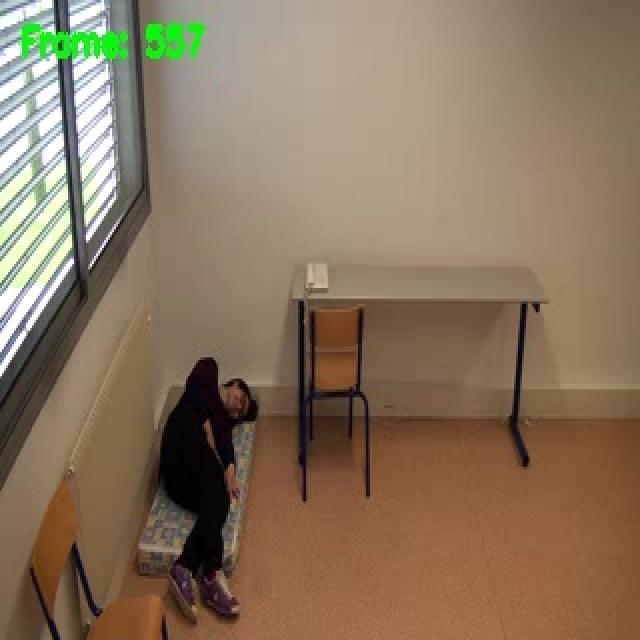Fall-Detected: (153, 351, 261, 620)
